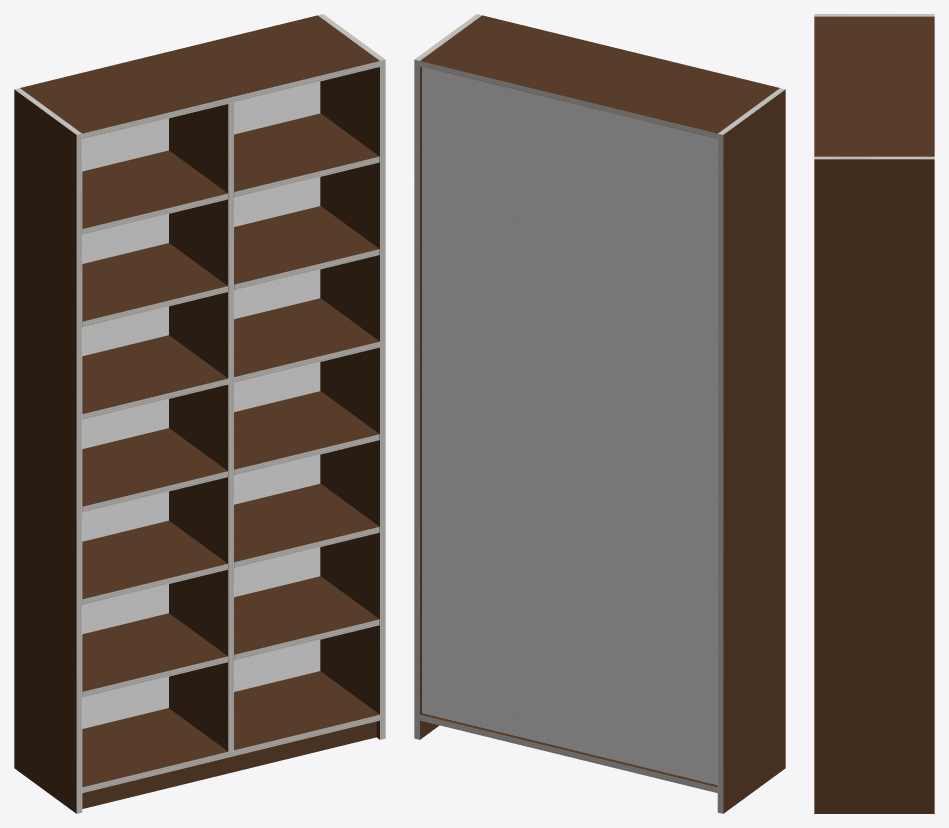
File: ATL-BKC-tall.glb
The picture shows the model from 3 angles, left to right: view 1: azimuth 30°, elevation 25°; view 2: azimuth 150°, elevation 25°; view 3: azimuth 270°, elevation 25°; orthographic projection. The views are drawn at different scales.
Visible parts, largest first — view 1: side-l:pbr, back:sheet:eyJtIjoibWRmIiwic2lkZSI6ImZhY2UiLCJzZWVkIjowLCJ0a, partition:pbr, side-r:pbr, top:pbr, bottom:pbr, shelf-fixedl:pbr, shelf-fixedr:pbr, shelf-1:pbr, shelf-7:pbr, shelf-9:pbr, shelf-3:pbr (+24 smaller); view 2: back:sheet:eyJtIjoibWRmIiwic2lkZSI6ImZhY2UiLCJzZWVkIjowLCJ0a, side-l:pbr, top:pbr, side-l:sheet:eyJtIjoicGx5Iiwic2lkZSI6ImVkZ2UtbG9uZyIsInNlZWQ, side-r:sheet:eyJtIjoicGx5Iiwic2lkZSI6ImVkZ2UtbG9uZyIsInNlZWQ, top:sheet:eyJtIjoicGx5Iiwic2lkZSI6ImVkZ2UtbG9uZyIsInNlZWQiOj, bottom:sheet:eyJtIjoicGx5Iiwic2lkZSI6ImVkZ2UtbG9uZyIsInNlZWQ, side-r:pbr, bottom:pbr; view 3: side-r:pbr, top:pbr, side-r:sheet:eyJtIjoicGx5Iiwic2lkZSI6ImVkZ2UtZW5kIiwic2VlZCI, side-l:sheet:eyJtIjoicGx5Iiwic2lkZSI6ImVkZ2UtZW5kIiwic2VlZCI.
Part boxes in pixels (left/top/right/bottom): side-l:pbr: left=14, top=89, right=76, bottom=813; back:sheet:eyJtIjoibWRmIiwic2lkZSI6ImZhY2UiLCJzZWVkIjowLCJ0a: left=82, top=81, right=320, bottom=728; partition:pbr: left=169, top=104, right=228, bottom=751; side-r:pbr: left=320, top=67, right=379, bottom=739; top:pbr: left=20, top=15, right=379, bottom=133; bottom:pbr: left=82, top=671, right=379, bottom=787; shelf-fixedl:pbr: left=82, top=335, right=227, bottom=413; shelf-fixedr:pbr: left=234, top=298, right=379, bottom=376; shelf-1:pbr: left=82, top=613, right=227, bottom=691; shelf-7:pbr: left=82, top=243, right=227, bottom=321; shelf-9:pbr: left=82, top=150, right=227, bottom=228; shelf-3:pbr: left=82, top=520, right=227, bottom=599; back:sheet:eyJtIjoibWRmIiwic2lkZSI6ImZhY2UiLCJzZWVkIjowLCJ0a: left=422, top=67, right=717, bottom=785; side-l:pbr: left=723, top=89, right=785, bottom=813; top:pbr: left=420, top=15, right=779, bottom=133; side-l:sheet:eyJtIjoicGx5Iiwic2lkZSI6ImVkZ2UtbG9uZyIsInNlZWQ: left=717, top=134, right=723, bottom=813; side-r:sheet:eyJtIjoicGx5Iiwic2lkZSI6ImVkZ2UtbG9uZyIsInNlZWQ: left=414, top=59, right=419, bottom=739; top:sheet:eyJtIjoicGx5Iiwic2lkZSI6ImVkZ2UtbG9uZyIsInNlZWQiOj: left=420, top=61, right=717, bottom=139; bottom:sheet:eyJtIjoicGx5Iiwic2lkZSI6ImVkZ2UtbG9uZyIsInNlZWQ: left=420, top=715, right=717, bottom=792; side-r:pbr: left=420, top=67, right=439, bottom=739; bottom:pbr: left=420, top=713, right=717, bottom=787; side-r:pbr: left=814, top=159, right=934, bottom=813; top:pbr: left=814, top=16, right=934, bottom=156; side-r:sheet:eyJtIjoicGx5Iiwic2lkZSI6ImVkZ2UtZW5kIiwic2VlZCI: left=814, top=156, right=934, bottom=159; side-l:sheet:eyJtIjoicGx5Iiwic2lkZSI6ImVkZ2UtZW5kIiwic2VlZCI: left=814, top=14, right=934, bottom=16.
Size of the model in its own units: 1 by 2.1 by 0.35.
Materials: 57 (39 with a texture image).
